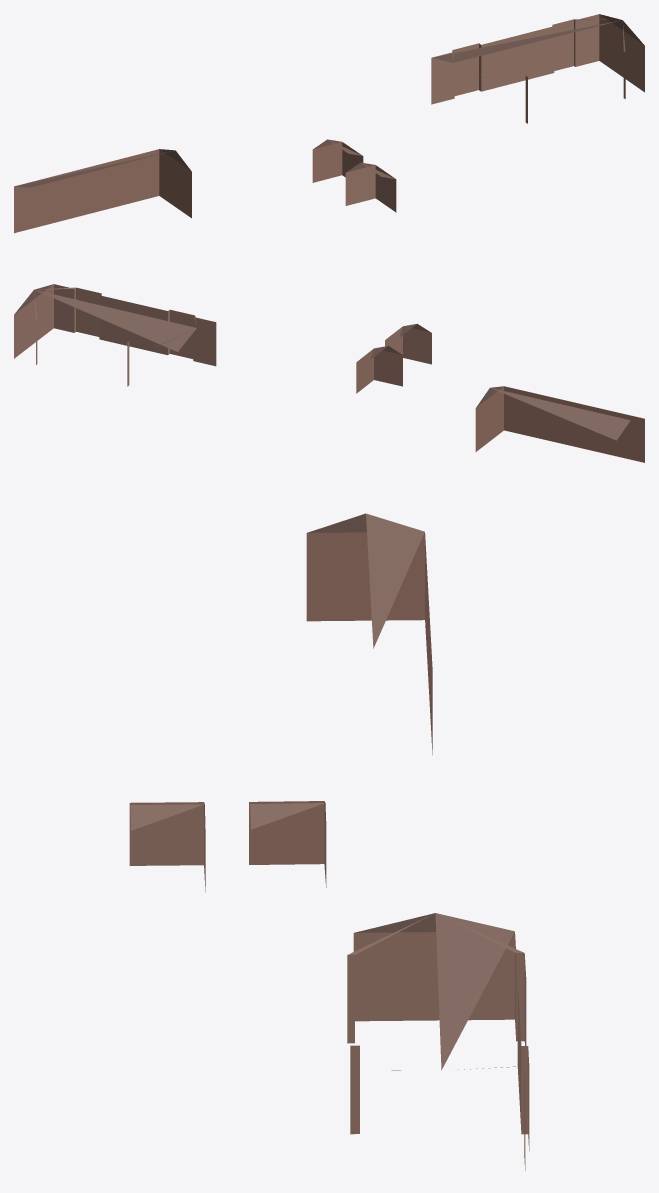
Rendered from c_1634_17836_buildings_residential.glb.
3 views of the same model, one above another, from view 1: azimuth 30°, elevation 25°; view 2: azimuth 150°, elevation 25°; view 3: azimuth 270°, elevation 25° (orthographic). The views are drawn at different scales.
Visible parts, largest first — view 1: geometry_0; view 2: geometry_0; view 3: geometry_0.
Part boxes in pixels (x1=…): geometry_0: x1=14, y1=14, x2=644, y2=233; geometry_0: x1=14, y1=284, x2=644, y2=462; geometry_0: x1=129, y1=513, x2=529, y2=1170.
Size of the model in its own units: 173 by 16.26 by 51.62.
